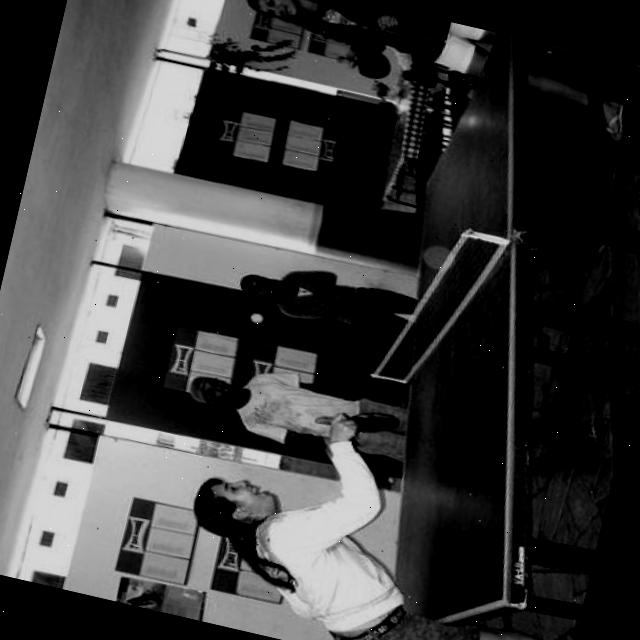ping-pong-ball: (247, 310, 264, 326)
